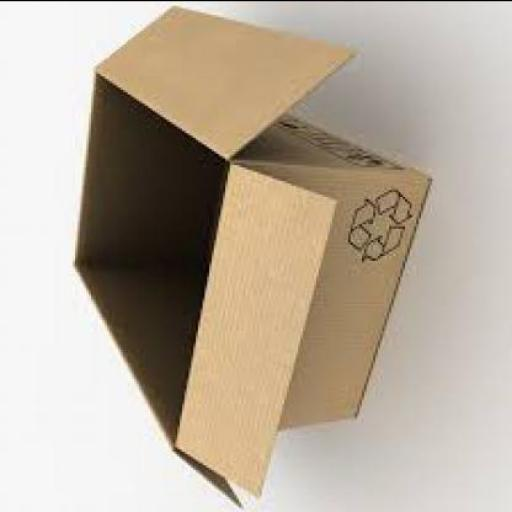cardboard: (71, 8, 430, 510)
